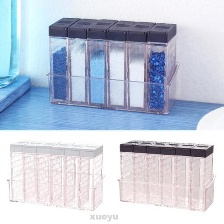plastic_box: (42, 10, 184, 121), (1, 135, 109, 214), (113, 134, 218, 214)
